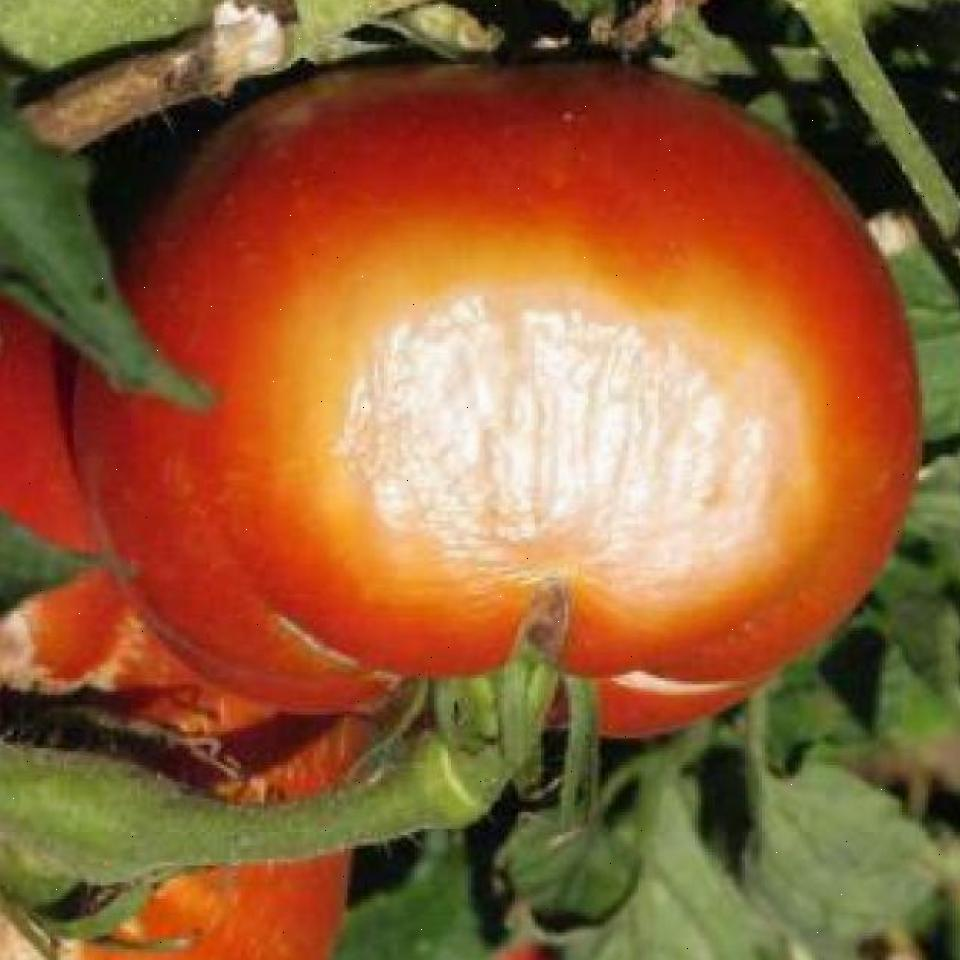Sunscald: (286, 264, 827, 630)
